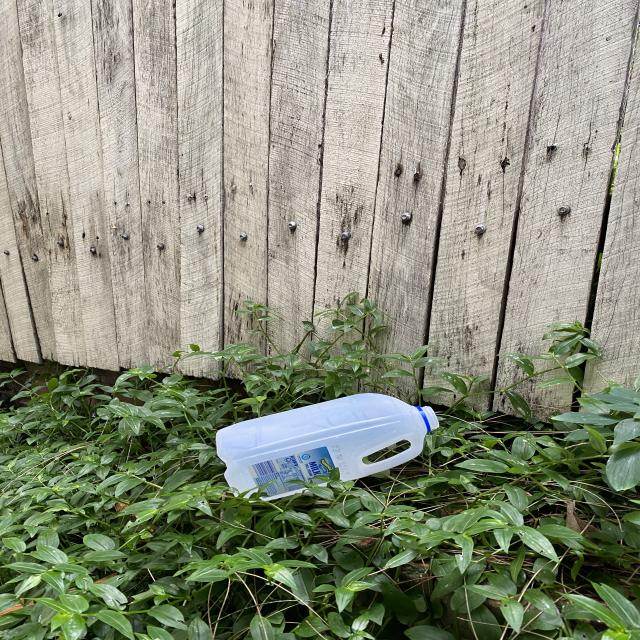bottle: (214, 390, 444, 500)
